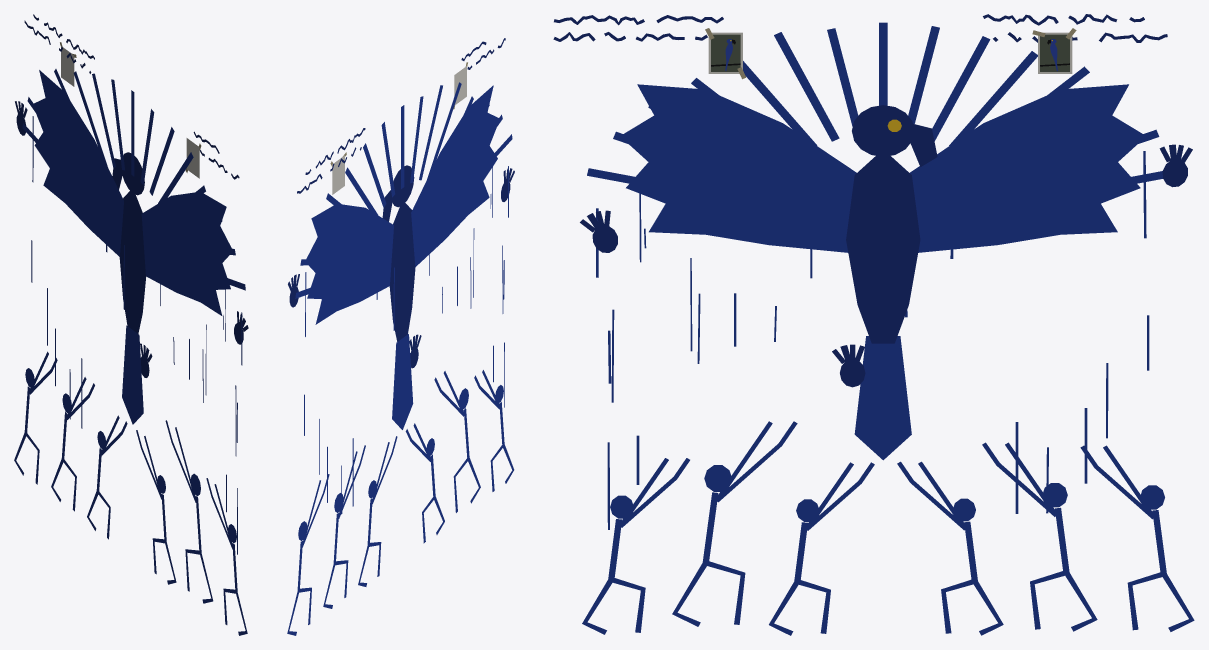
Rendered from jerry_mural.glb.
3 renders of one model, left to right at view 1: azimuth 30°, elevation 25°; view 2: azimuth 150°, elevation 25°; view 3: azimuth 270°, elevation 25°, orthographic. The views are drawn at different scales.
Parts seen in each view (by area): view 1: teil0, teil1, teil3; view 2: teil0, teil1, teil3; view 3: teil0, teil1, teil4.
Boxes of the visible parts, box(x1,y1,x2,y2) form: teil0: box(14, 69, 247, 635); teil1: box(15, 14, 248, 377); teil3: box(61, 46, 199, 178); teil0: box(287, 82, 514, 635); teil1: box(288, 38, 514, 368); teil3: box(332, 66, 466, 194); teil0: box(582, 22, 1194, 635); teil1: box(553, 14, 1192, 387); teil4: box(711, 34, 1069, 71).
Bounding box in the file's own units: 0.003 × 2.4 × 2.24.
